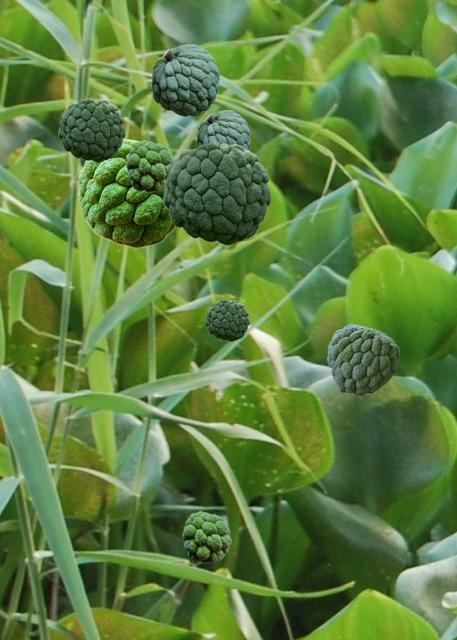atis: (163, 141, 270, 244), (78, 138, 175, 247), (327, 324, 398, 394), (152, 44, 218, 115), (58, 98, 124, 161), (126, 140, 174, 191), (182, 511, 230, 562), (197, 110, 249, 149), (205, 299, 248, 340)
